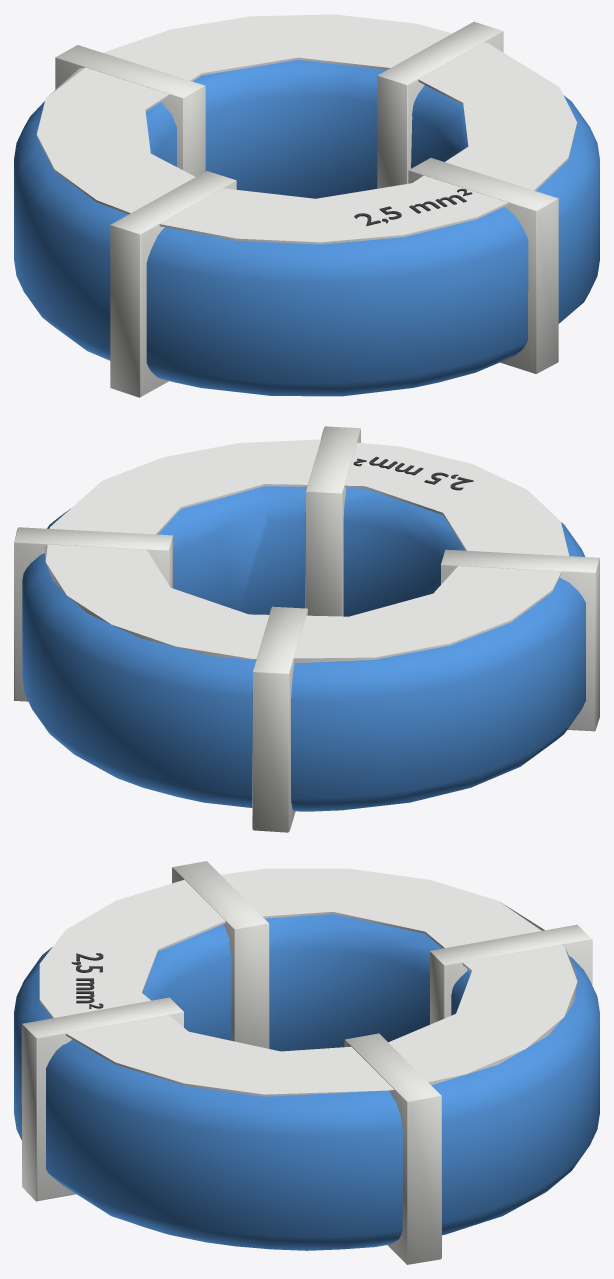
File: ELE-FIO-002_lod1.glb
3 renders of one model, top to bottom at view 1: azimuth 30°, elevation 25°; view 2: azimuth 150°, elevation 25°; view 3: azimuth 270°, elevation 25°, orthographic. The views are drawn at different scales.
Parts seen in each view (by area): view 1: ELE-FIO-002_rolo, ELE-FIO-002_etiqueta, ELE-FIO-002_fita2, ELE-FIO-002_fita3, ELE-FIO-002_fita0, ELE-FIO-002_fita1, ELE-FIO-002_texto; view 2: ELE-FIO-002_rolo, ELE-FIO-002_etiqueta, ELE-FIO-002_fita1, ELE-FIO-002_fita3, ELE-FIO-002_fita2, ELE-FIO-002_fita0, ELE-FIO-002_texto; view 3: ELE-FIO-002_rolo, ELE-FIO-002_etiqueta, ELE-FIO-002_fita0, ELE-FIO-002_fita3, ELE-FIO-002_fita2, ELE-FIO-002_fita1, ELE-FIO-002_texto.
Part boxes in pixels (x1,y1,x2,y2): ELE-FIO-002_rolo: (14,60,599,396); ELE-FIO-002_etiqueta: (36,14,577,244); ELE-FIO-002_fita2: (110,171,236,397); ELE-FIO-002_fita3: (408,158,558,373); ELE-FIO-002_fita0: (377,21,503,188); ELE-FIO-002_fita1: (55,45,205,176); ELE-FIO-002_texto: (354,188,472,226); ELE-FIO-002_rolo: (22,486,585,811); ELE-FIO-002_etiqueta: (44,439,569,663); ELE-FIO-002_fita1: (252,606,307,832); ELE-FIO-002_fita3: (305,426,360,616); ELE-FIO-002_fita2: (441,549,599,731); ELE-FIO-002_fita0: (14,527,172,701); ELE-FIO-002_texto: (353,456,473,490); ELE-FIO-002_rolo: (14,914,599,1250); ELE-FIO-002_etiqueta: (39,868,577,1096); ELE-FIO-002_fita0: (344,1033,441,1264); ELE-FIO-002_fita3: (21,997,183,1201); ELE-FIO-002_fita2: (172,861,269,1048); ELE-FIO-002_fita1: (430,924,592,1024); ELE-FIO-002_texto: (71,953,103,1008).
Size of the model in its own units: 0.2382 by 0.0737 by 0.2382.
